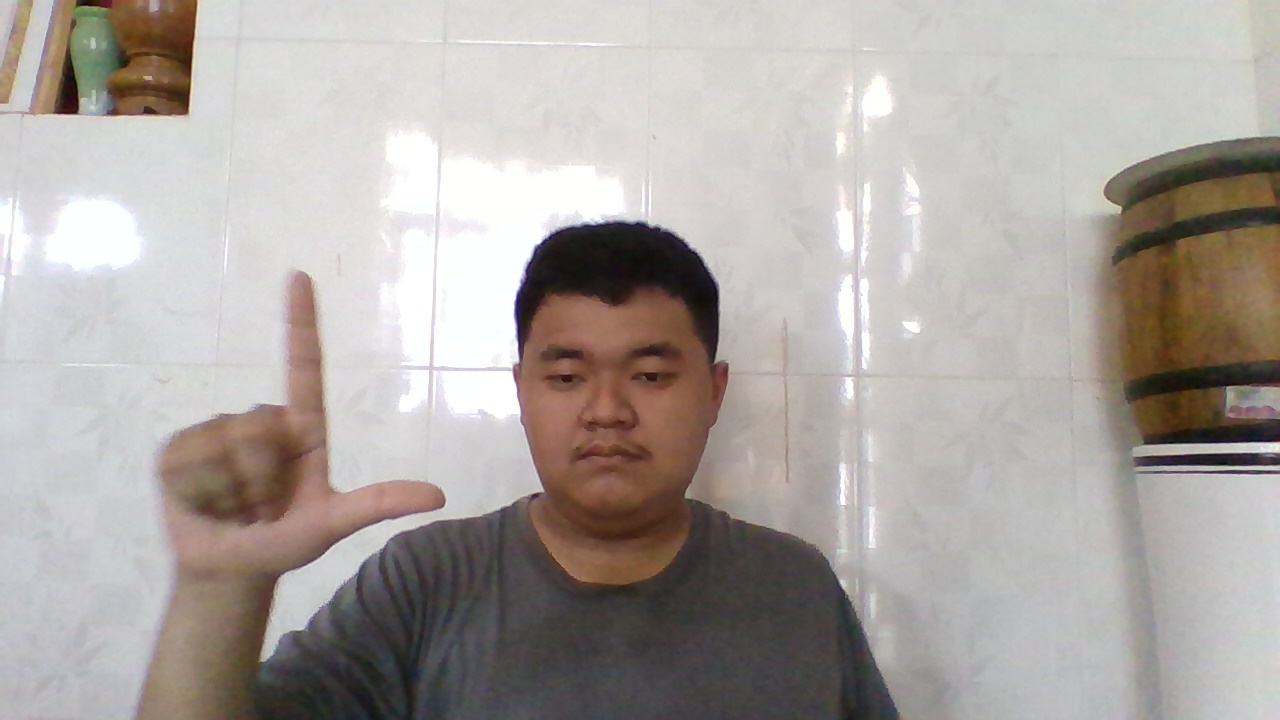L: (165, 270, 448, 588)
